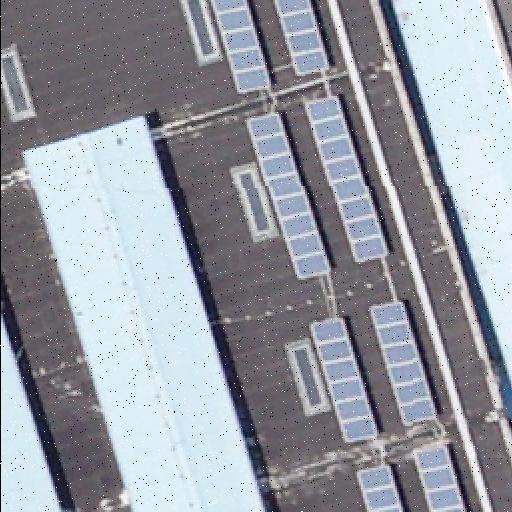solar-panel: (305, 93, 391, 267), (246, 109, 330, 283), (303, 319, 377, 449), (369, 303, 439, 433), (211, 0, 269, 96), (269, 0, 331, 80), (414, 444, 466, 512), (351, 464, 401, 512)
